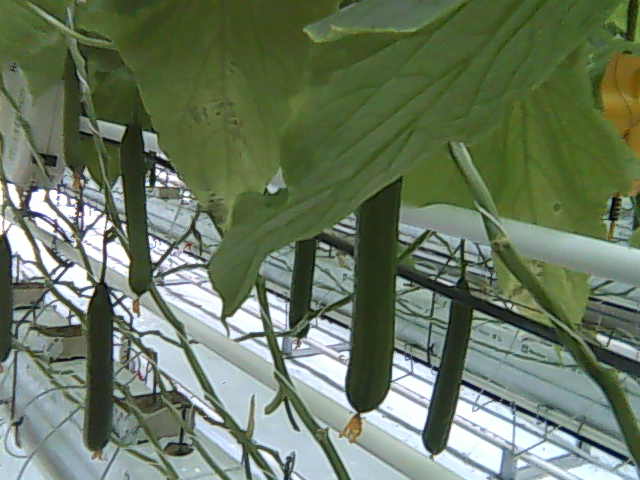concombre: (340, 177, 407, 448), (116, 117, 160, 318), (83, 276, 115, 466)
